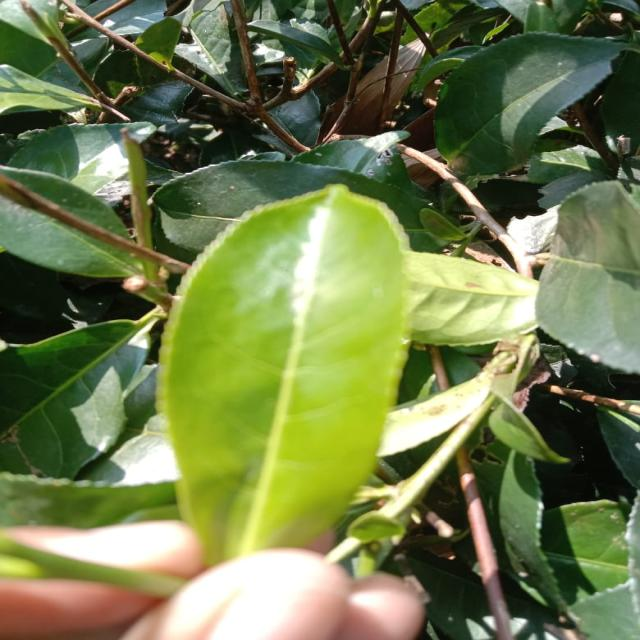Category B 2-4 days: (147, 173, 426, 582)
